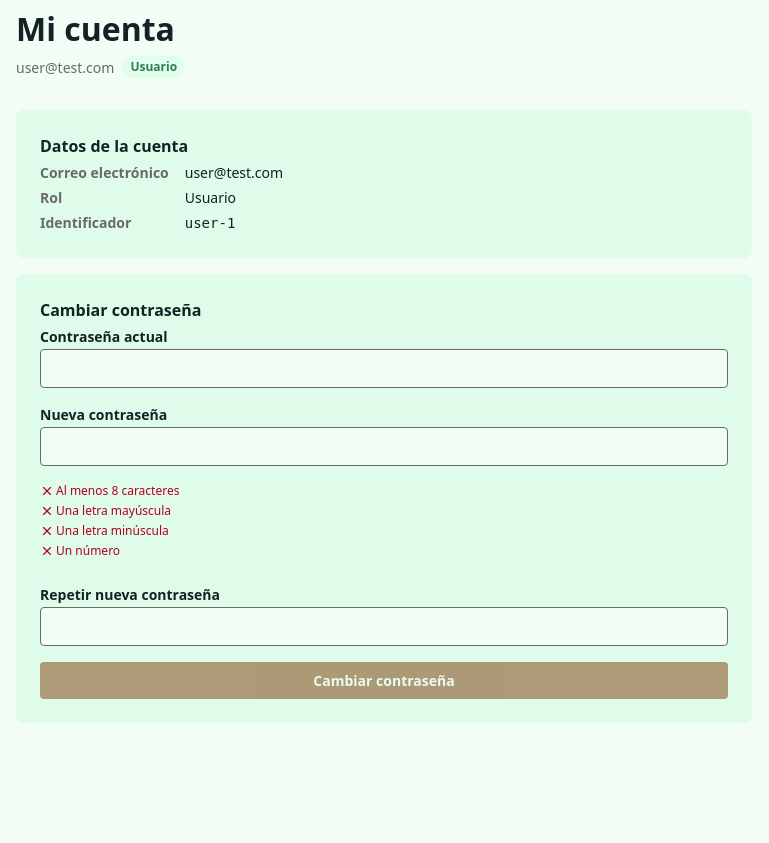
Test case: CuentaPage › muestra error si el servidor responde 422 pese a pasar la validación del cliente
In the password field labelled "Contraseña actual": (384, 369) 40,349 -> 728,388, type "Oldpass1"
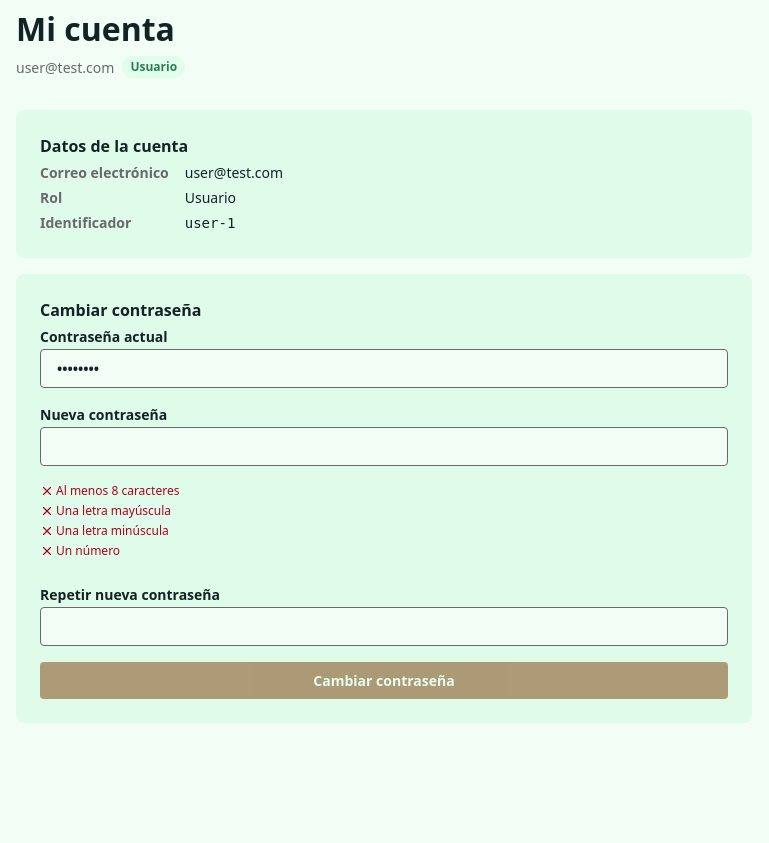
In the password field labelled "Nueva contraseña": (384, 447) 40,427 -> 728,466, type "Newpass1"
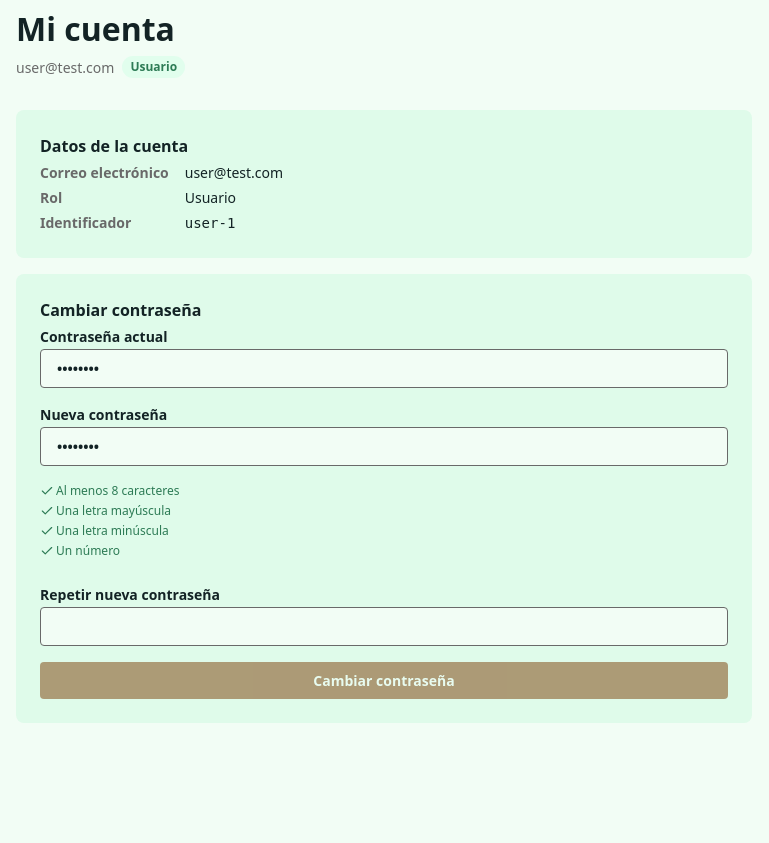
In the password field labelled "Repetir nueva contraseña": (384, 627) 40,607 -> 728,646, type "Newpass1"
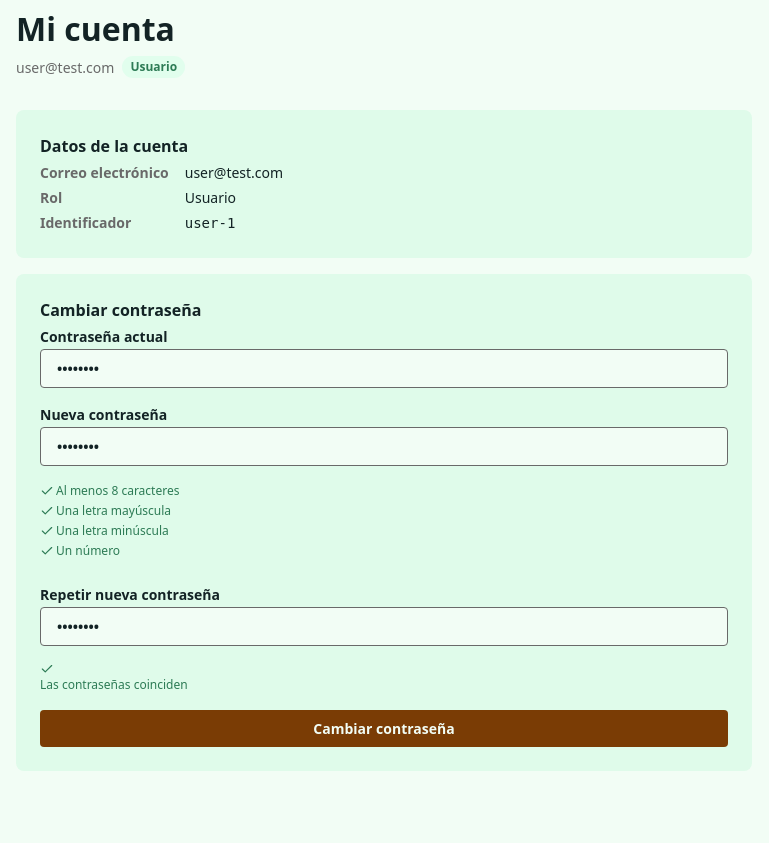
Click the button "Cambiar contraseña": (384, 729) 40,710 -> 728,747
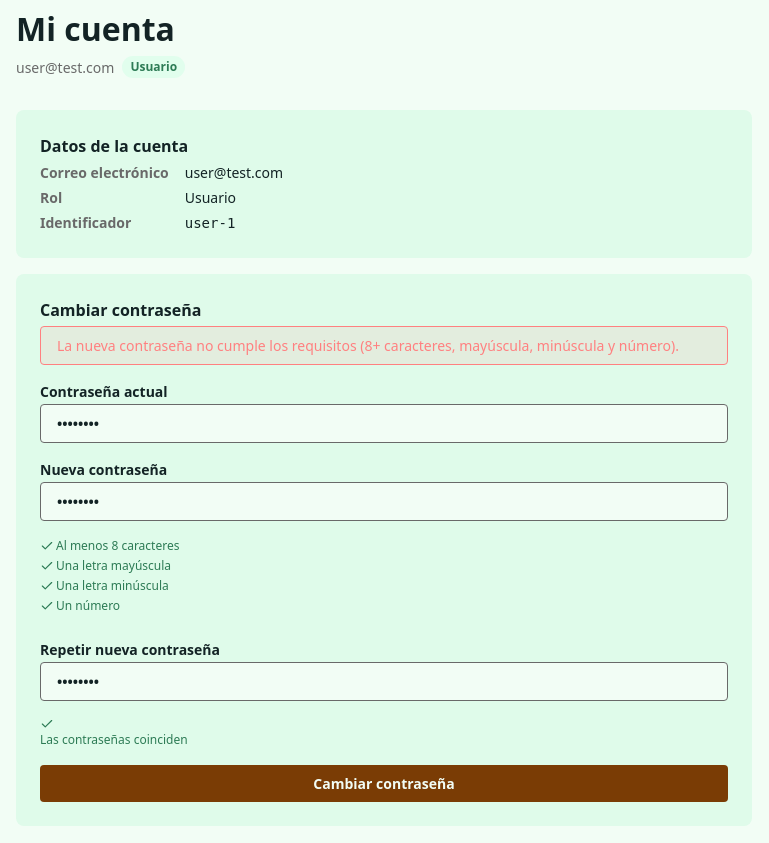
Result: the text "no cumple los requisitos" is shown at 57,336 -> 679,355
